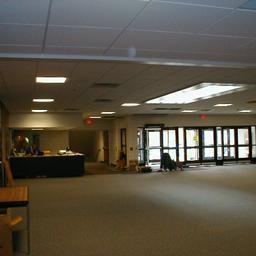Puerta: (184, 129, 215, 166), (223, 128, 251, 165)
